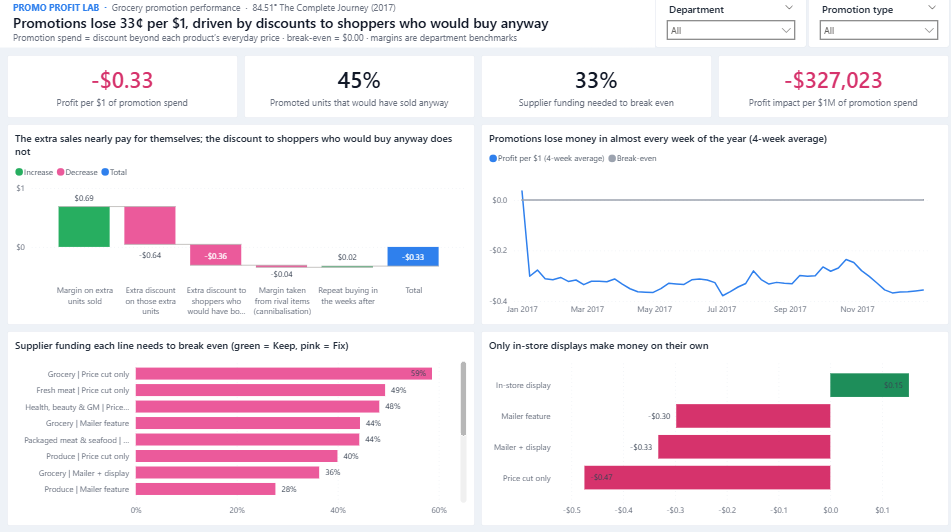

The page's visual inventory and layout, read from the dashboard file:
{"tool":"powerbi","page":{"name":"Summary","canvas":[1280,720],"ordinal":0},"visuals":[{"type":"textbox","box":[0,0,876,70],"z":1000},{"type":"slicer","fields":{"Values":["fact_promo_event.group"]},"box":[876.9,0,187.1,69.9],"z":2000},{"type":"slicer","fields":{"Values":["fact_promo_event.promo_type"]},"box":[1079.1,0,189,69.9],"z":3000},{"type":"card","fields":{"Values":["_Measures.Return per $1"]},"box":[12,80,308,84],"z":4000},{"type":"card","fields":{"Values":["_Measures.Subsidised Share"]},"box":[328,80,308,84],"z":5000},{"type":"card","fields":{"Values":["_Measures.Break-even Supplier Share"]},"box":[644,80,308,84],"z":6000},{"type":"card","fields":{"Values":["_Measures.Incremental GP per $1M"]},"box":[960,80,308,84],"z":7000},{"type":"waterfallChart","title":"The extra sales nearly pay for themselves; the discount to shoppers who would buy anyway does not","fields":{"Category":["waterfall_per_dollar.step"],"Y":["Sum(waterfall_per_dollar.per_dollar)"]},"box":[12,172,624,268],"z":8000},{"type":"lineChart","title":"Promotions lose money in almost every week of the year (4-week average)","fields":{"Category":["dim_week.week_start"],"Y":["_Measures.Return per $1 (4-wk avg)","_Measures.Break-even Line"]},"box":[644,172,624,268],"z":9000},{"type":"clusteredBarChart","title":"Supplier funding each line needs to break even (green = Keep, pink = Fix)","fields":{"Category":["promo_cells_decisions.cell_key"],"Y":["_Measures.Break-even Supplier Share"]},"box":[12,448,624,260],"z":10000},{"type":"clusteredBarChart","title":"Only in-store displays make money on their own","fields":{"Category":["fact_promo_event.promo_type"],"Y":["_Measures.Return per $1"]},"box":[644,448,624,260],"z":11000}]}

Visuals, with their boxes in screenshot pixels (x1, y1, x2, y2), scaled from the page's 1280x720 canvas onto the 951x532 screenshot:
textbox: box=[0, 0, 651, 52]
slicer - fact_promo_event.group: box=[652, 0, 791, 52]
slicer - fact_promo_event.promo_type: box=[802, 0, 942, 52]
card - _Measures.Return per $1: box=[9, 59, 238, 121]
card - _Measures.Subsidised Share: box=[244, 59, 473, 121]
card - _Measures.Break-even Supplier Share: box=[478, 59, 707, 121]
card - _Measures.Incremental GP per $1M: box=[713, 59, 942, 121]
"The extra sales nearly pay for themselves; the discount to shoppers who would buy anyway does not" waterfallChart: box=[9, 127, 473, 325]
"Promotions lose money in almost every week of the year (4-week average)" lineChart: box=[478, 127, 942, 325]
"Supplier funding each line needs to break even (green = Keep, pink = Fix)" clusteredBarChart: box=[9, 331, 473, 523]
"Only in-store displays make money on their own" clusteredBarChart: box=[478, 331, 942, 523]
